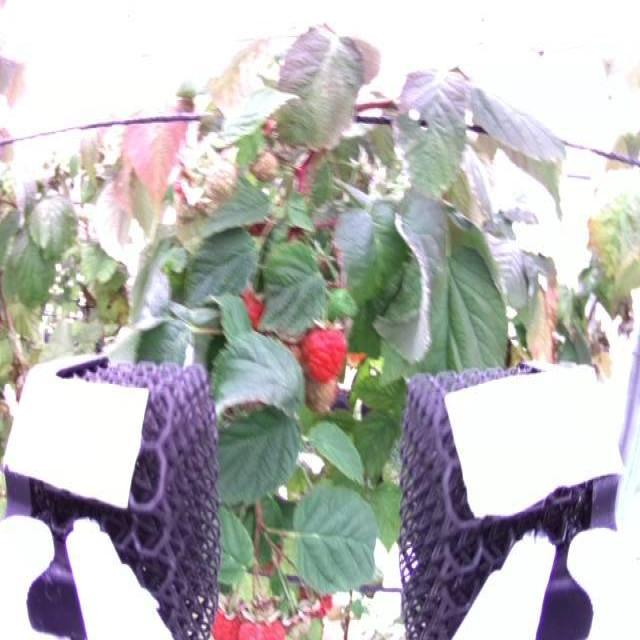Riped berries: (301, 314, 351, 382), (237, 283, 267, 327), (215, 600, 237, 637), (240, 612, 261, 640), (264, 617, 288, 640)
